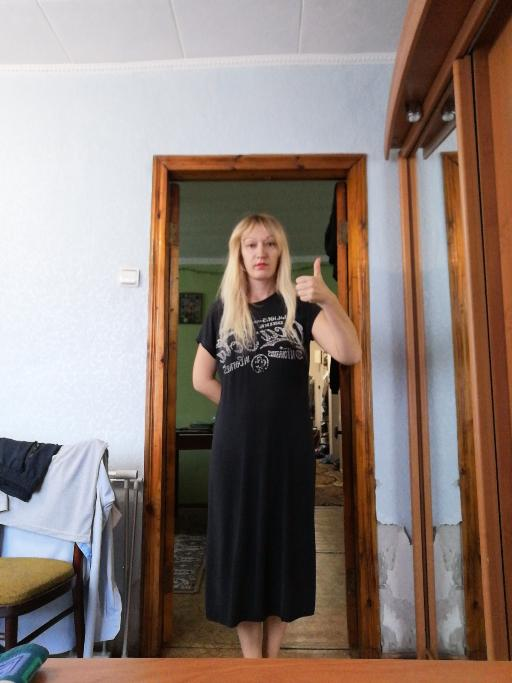like: (293, 255, 331, 306)
